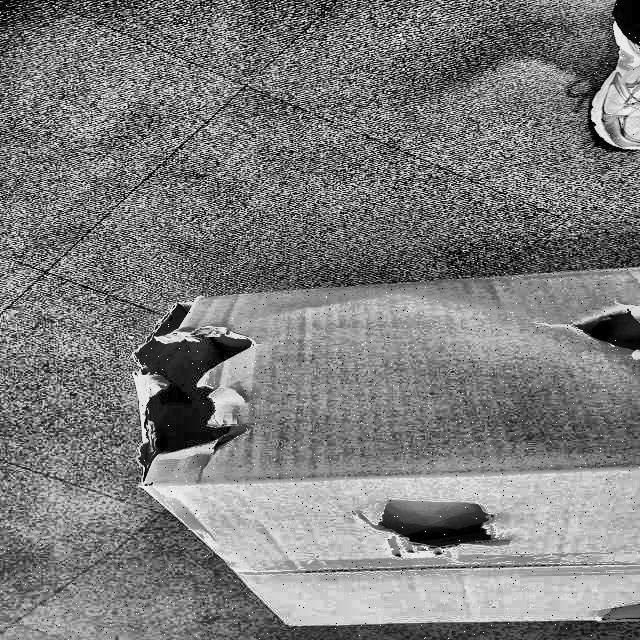box: (115, 254, 640, 634)
hole: (128, 293, 264, 479), (368, 487, 512, 560), (541, 296, 638, 358)
